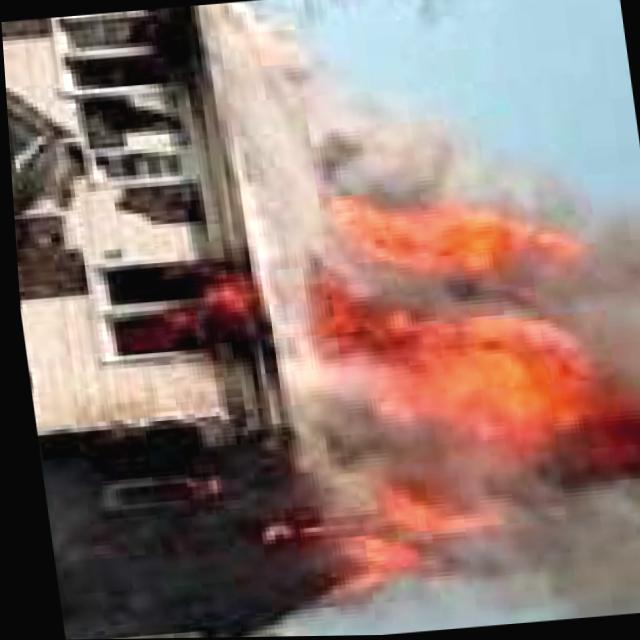smoke: (302, 61, 497, 211), (517, 568, 640, 623)
